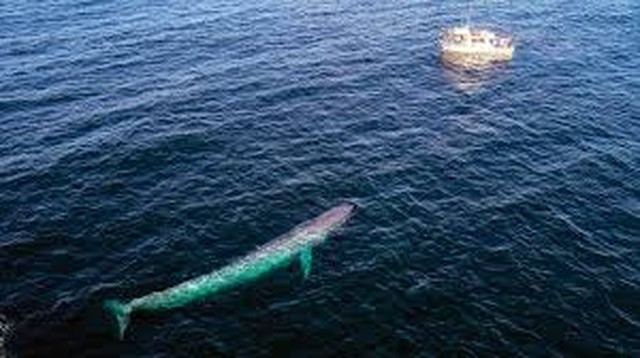whale: (96, 192, 363, 346)
